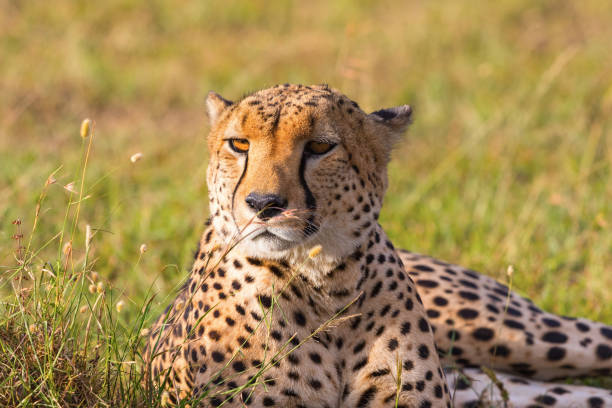cheetah: (187, 75, 432, 293)
